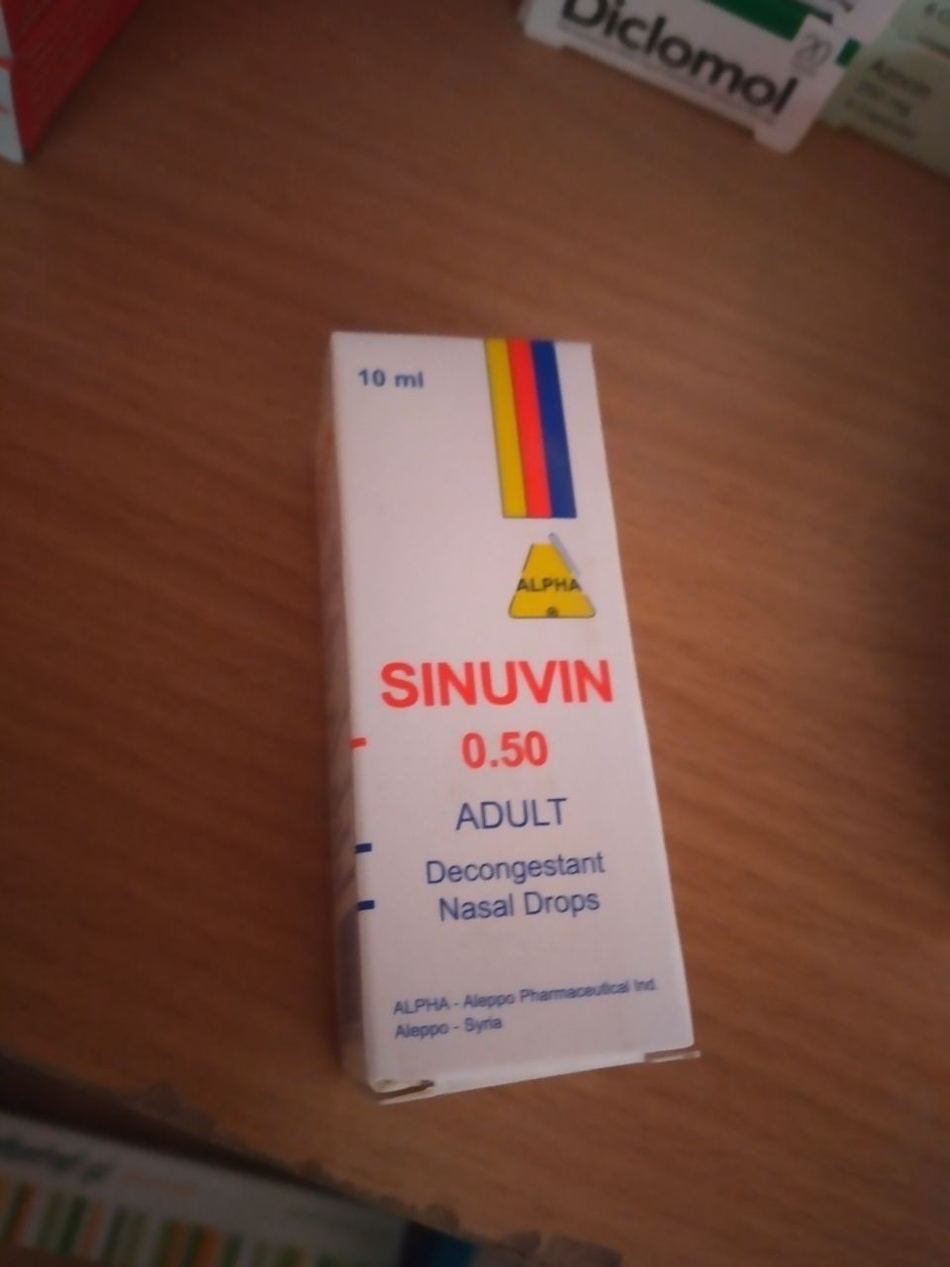Medicine: (313, 304, 709, 1138)
